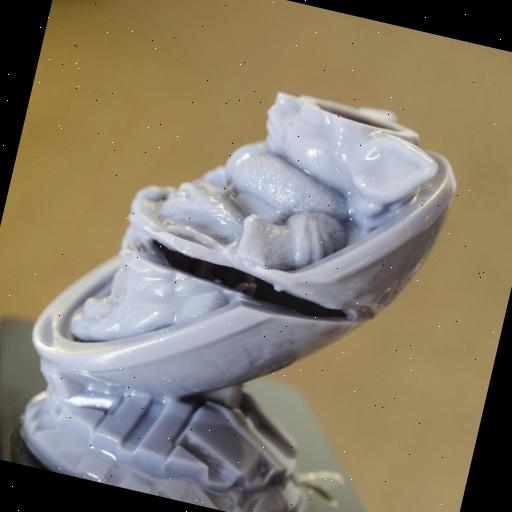cracks: (120, 224, 376, 370)
